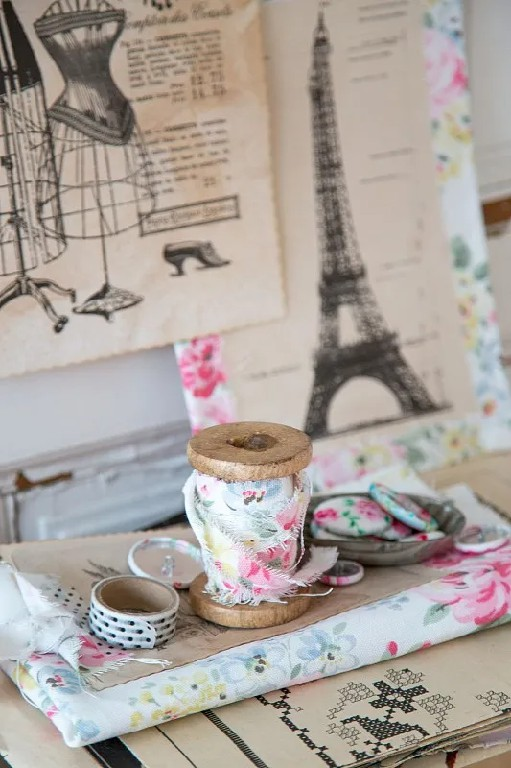Eiffel: (302, 13, 434, 437)
